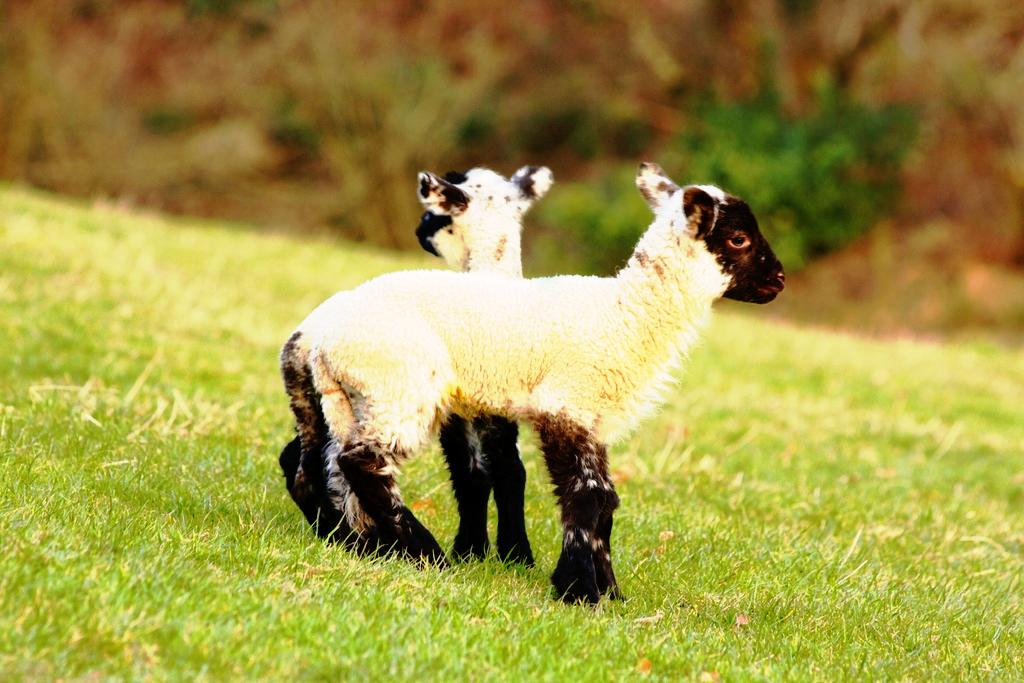Sheep: (286, 159, 786, 608), (275, 164, 553, 572)
